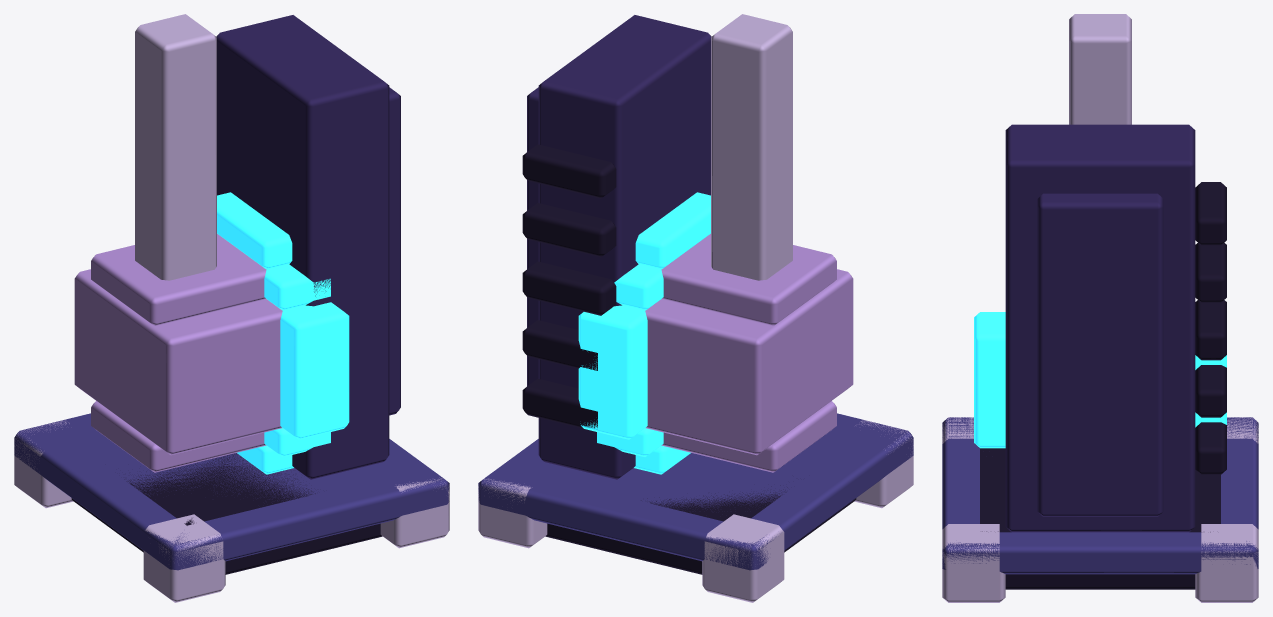
Rendered from coolant-pump.md.glb.
3 renders of one model, left to right at view 1: azimuth 30°, elevation 25°; view 2: azimuth 150°, elevation 25°; view 3: azimuth 270°, elevation 25°, orthographic. The views are drawn at different scales.
Parts seen in each view (by area): view 1: coolant-pump.md; view 2: coolant-pump.md; view 3: coolant-pump.md.
Boxes of the visible parts, x1,y1,x2,y2 form: coolant-pump.md: [14, 14, 449, 602]; coolant-pump.md: [478, 14, 913, 602]; coolant-pump.md: [942, 14, 1258, 602].
Size of the model in its own units: 0.625 by 1.06 by 0.625.
